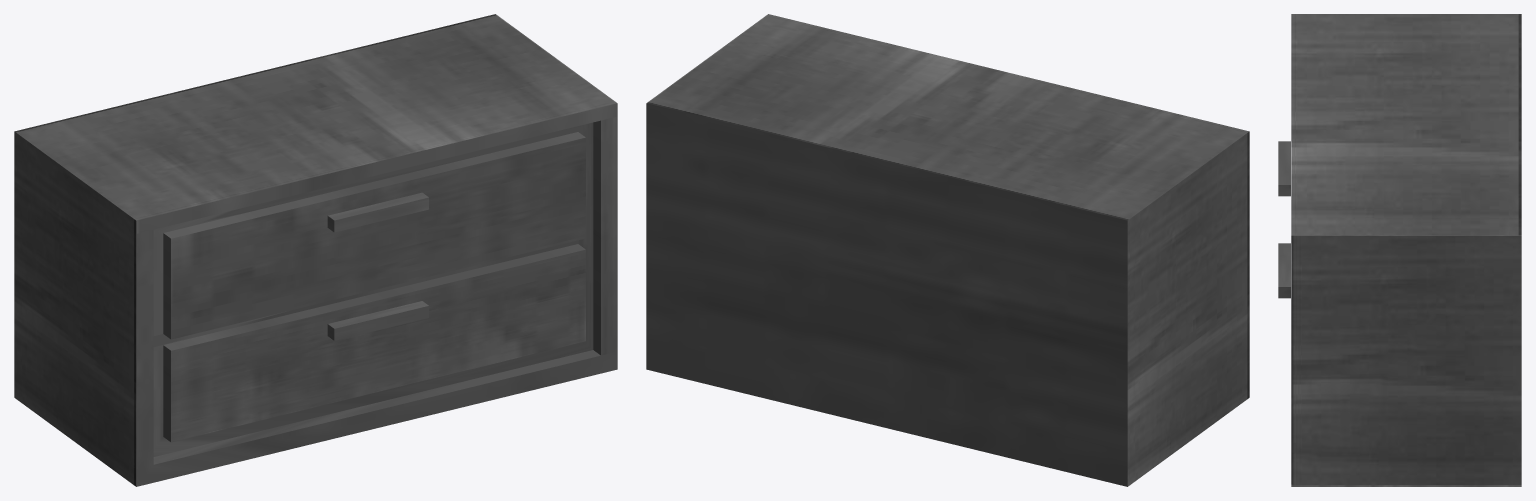
Rendered from Drawer.fbx.
The picture shows the model from 3 angles, left to right: view 1: azimuth 30°, elevation 25°; view 2: azimuth 150°, elevation 25°; view 3: azimuth 270°, elevation 25°; orthographic projection. The views are drawn at different scales.
Visible parts, largest first — view 1: Cube.002; view 2: Cube.002; view 3: Cube.002.
Part boxes in pixels (<box>): Cube.002: <box>14,14,617,486</box>; Cube.002: <box>646,14,1249,486</box>; Cube.002: <box>1278,14,1521,486</box>.
Bounding box in the file's own units: 456 × 241 × 211.
